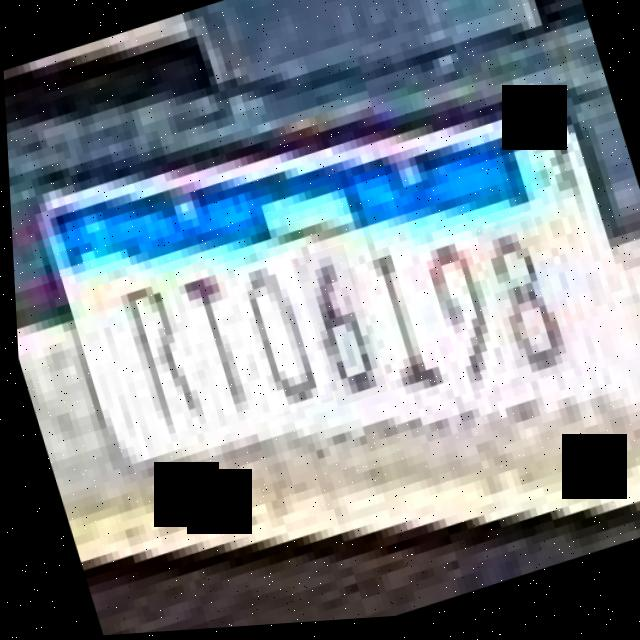6: (290, 246, 383, 412)
8: (472, 219, 574, 393)
9: (412, 234, 508, 406)
I: (352, 243, 446, 408)
O: (224, 256, 328, 421)
R: (108, 268, 208, 442)
T: (166, 259, 261, 424)
